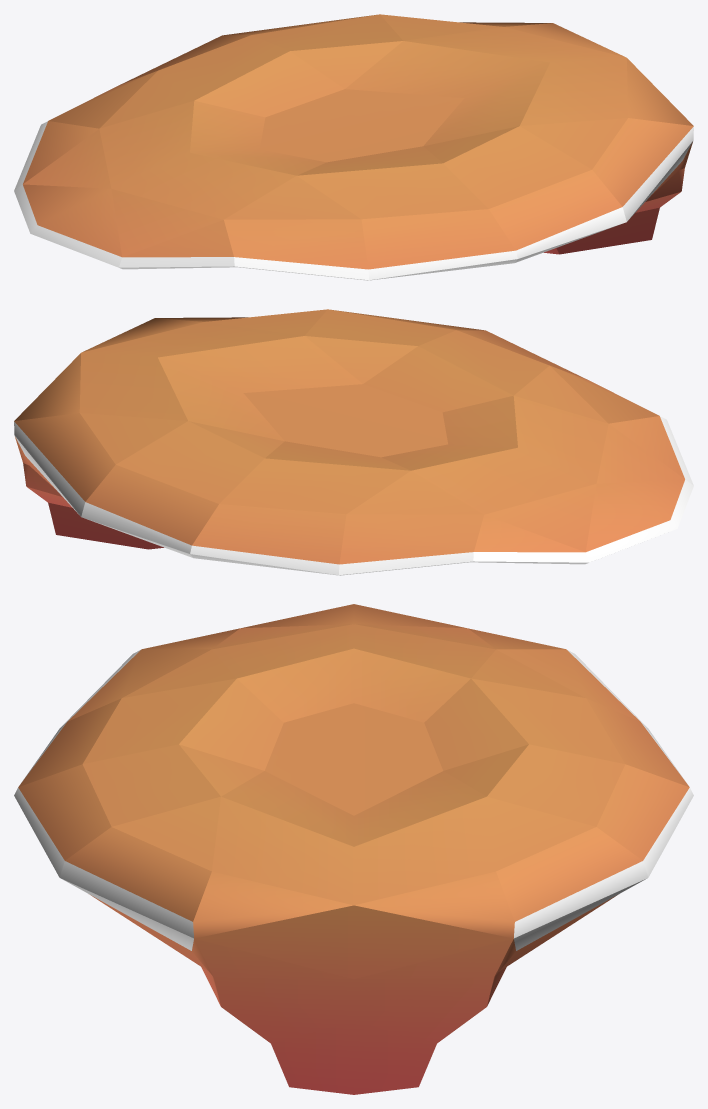
The model's file is plaque_corail01.FBX.
3 views of the same model, one above another, from view 1: azimuth 30°, elevation 25°; view 2: azimuth 150°, elevation 25°; view 3: azimuth 270°, elevation 25° (orthographic). The views are drawn at different scales.
Parts seen in each view (by area): view 1: plaque_corail_LOD0; view 2: plaque_corail_LOD0; view 3: plaque_corail_LOD0.
Part boxes in pixels (x1=…): plaque_corail_LOD0: x1=14, y1=14, x2=693, y2=280; plaque_corail_LOD0: x1=14, y1=309, x2=693, y2=575; plaque_corail_LOD0: x1=14, y1=604, x2=693, y2=1094.
Size of what is drawn, in the model's own units: 41.43 by 12.05 by 35.8.
